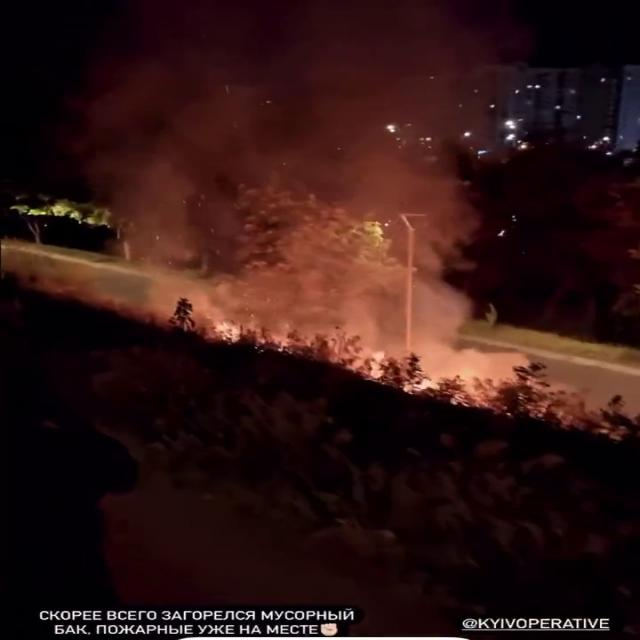Fire: (175, 303, 608, 426)
